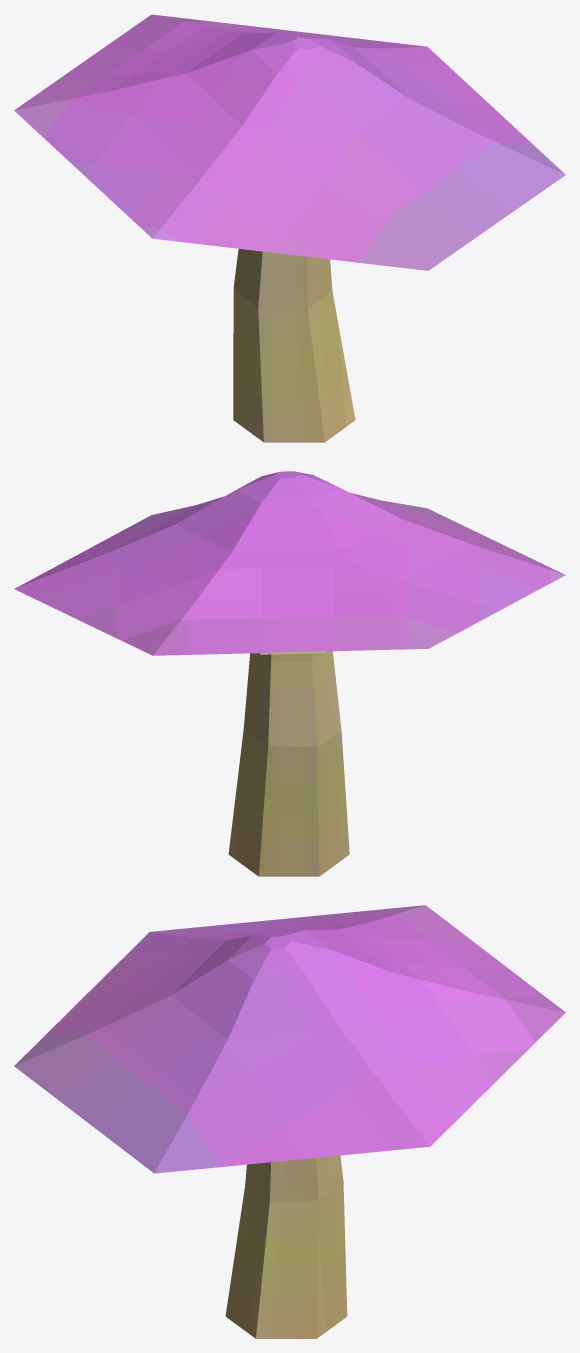
The model's file is cozy_mushroom_1 Textured.fbx.
3 views of the same model, one above another, from view 1: azimuth 30°, elevation 25°; view 2: azimuth 150°, elevation 25°; view 3: azimuth 270°, elevation 25° (orthographic).
Parts seen in each view (by area): view 1: Cone_001, Cone; view 2: Cone_001, Cone; view 3: Cone_001, Cone.
Boxes of the visible parts, x1,y1,x2,y2 form: Cone_001: [14, 14, 565, 270]; Cone: [233, 249, 355, 442]; Cone_001: [14, 471, 565, 655]; Cone: [228, 651, 349, 876]; Cone_001: [14, 905, 565, 1173]; Cone: [225, 1155, 347, 1338].
Bounding box in the file's own units: 240 × 209 × 276.
Materials: 1 (1 with a texture image).
